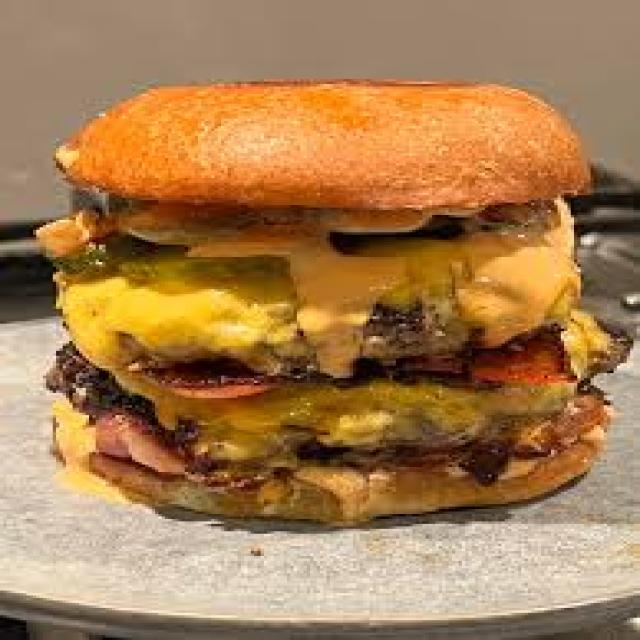Wet Waste: (40, 93, 619, 525)
